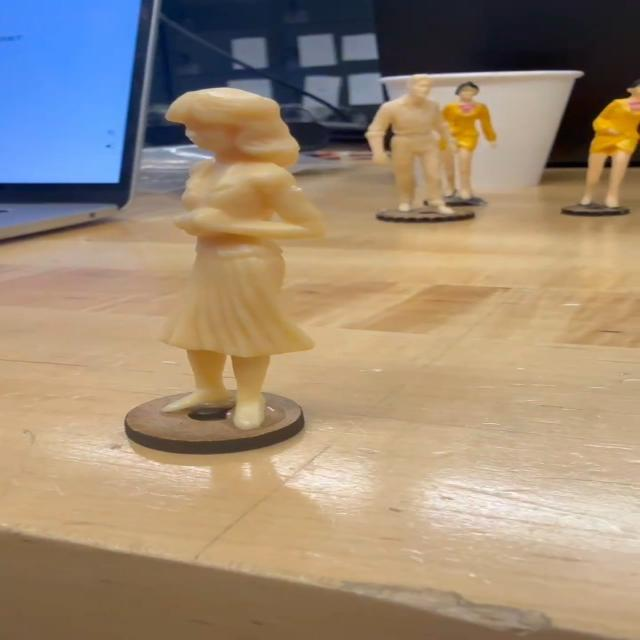Unauthorized: (142, 76, 329, 456)
